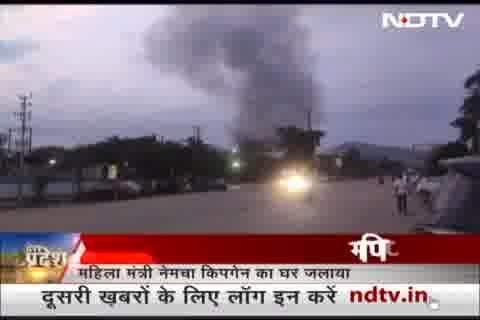fire: (271, 160, 317, 206)
smoke: (198, 6, 322, 77)
